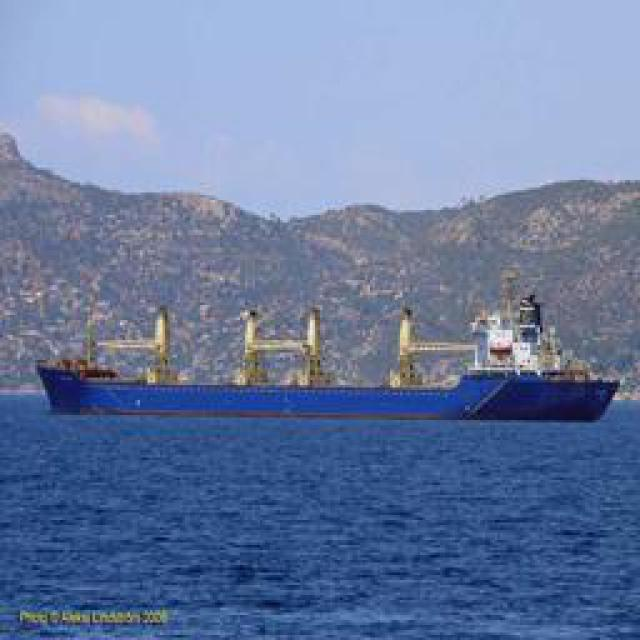Ship: (30, 294, 618, 429)
